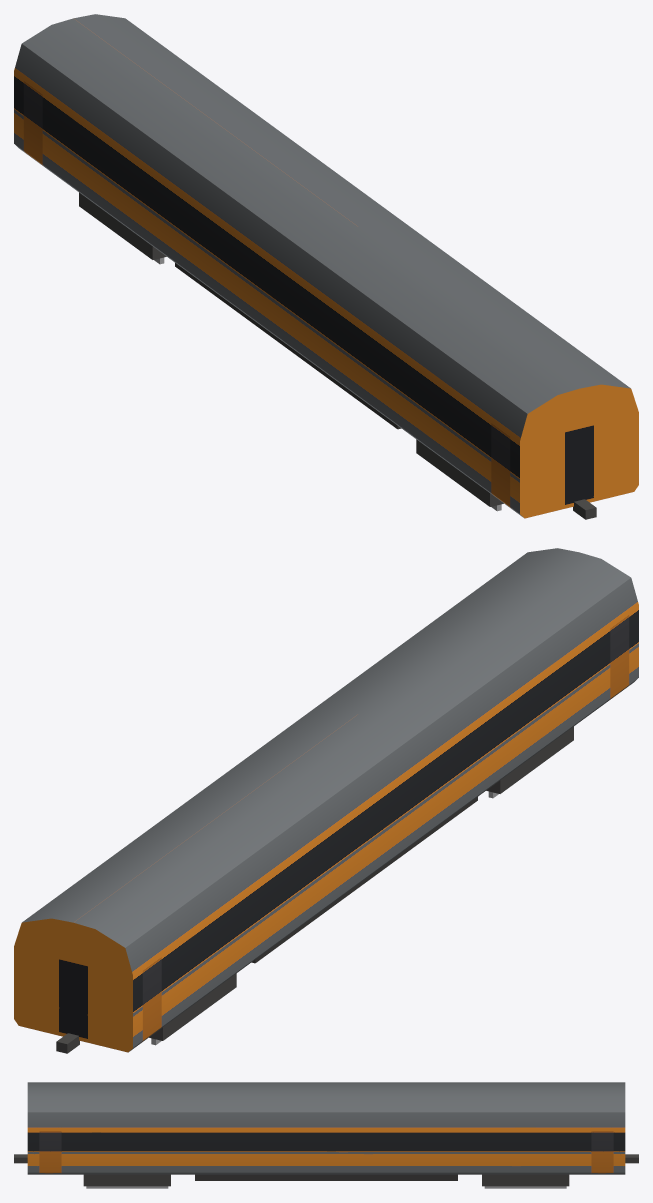
File: vb_coach_lod1.glb
3 views of the same model, one above another, from view 1: azimuth 30°, elevation 25°; view 2: azimuth 150°, elevation 25°; view 3: azimuth 270°, elevation 25° (orthographic). The views are drawn at different scales.
Visible parts, largest first — view 1: body; view 2: body; view 3: body.
Boxes of the visible parts, x1,y1,x2,y2 form: body: [14, 14, 638, 519]; body: [14, 548, 638, 1053]; body: [14, 1082, 638, 1188].
Bounding box in the file's own units: 3.26 × 3.95 × 25.1.
2 materials, 2 textured.
